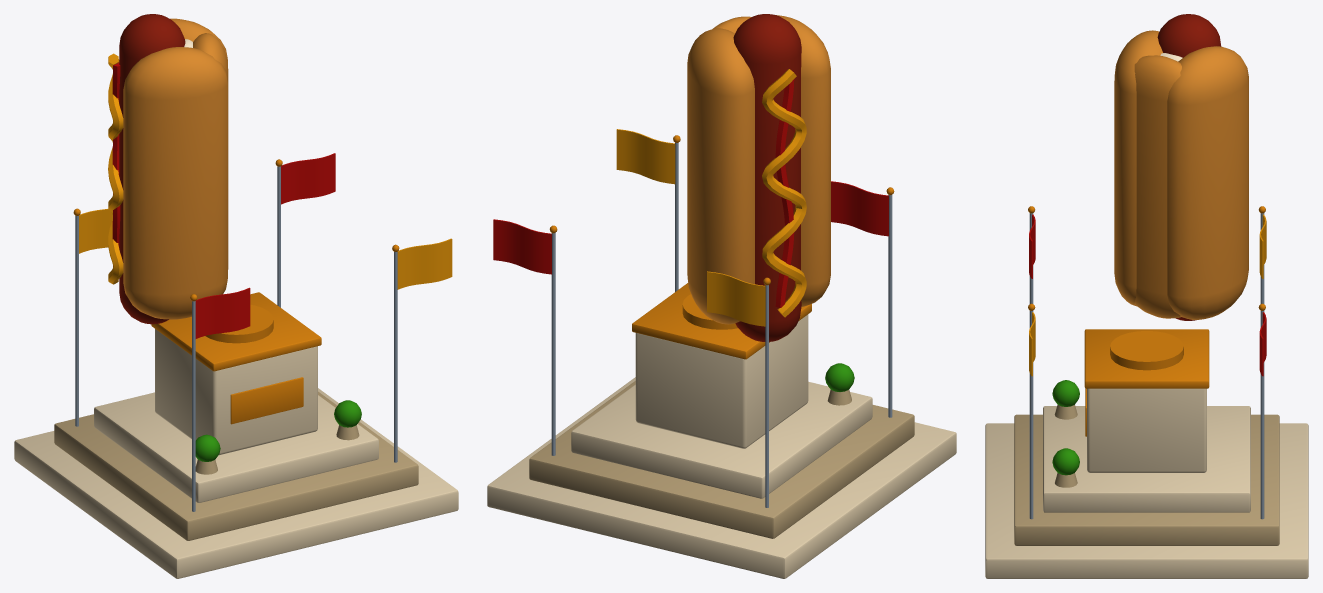
The model's file is RepublicMonument.fbx.
The picture shows the model from 3 angles, left to right: view 1: azimuth 30°, elevation 25°; view 2: azimuth 150°, elevation 25°; view 3: azimuth 270°, elevation 25°; orthographic projection. The views are drawn at different scales.
Parts seen in each view (by area): view 1: RepublicMonument; view 2: RepublicMonument; view 3: RepublicMonument.
Boxes of the visible parts, bbox=[...] form: RepublicMonument: bbox=[14, 14, 458, 578]; RepublicMonument: bbox=[487, 14, 956, 578]; RepublicMonument: bbox=[985, 14, 1308, 578].
Bounding box in the file's own units: 14.8 × 22.2 × 14.
